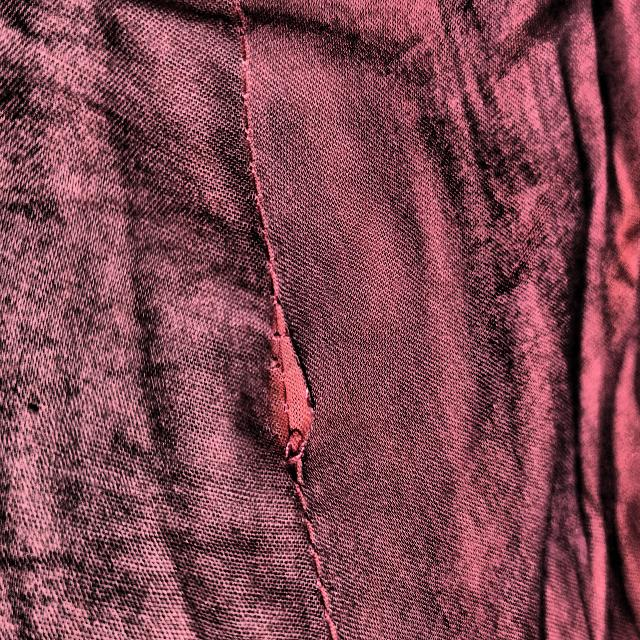seam: (244, 254, 325, 512)
